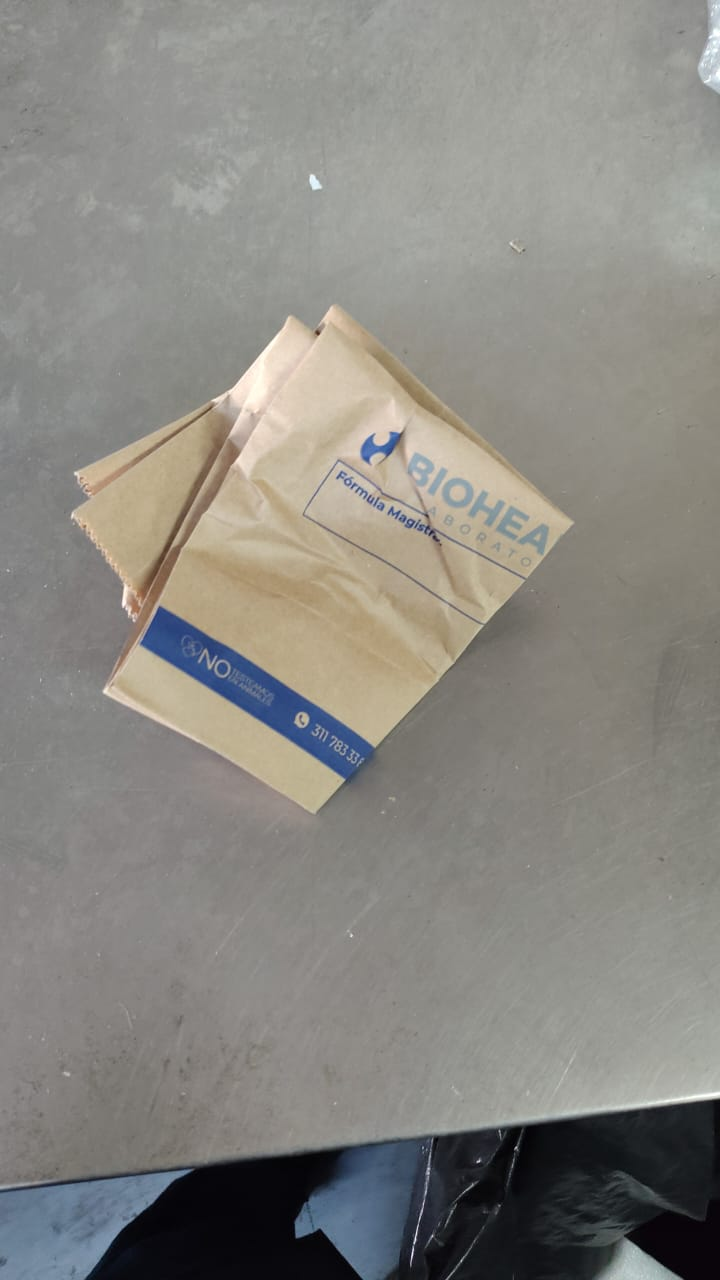Carton: (71, 303, 571, 812)
